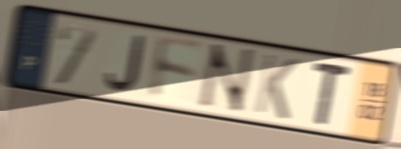7: (55, 18, 101, 89)
F: (148, 32, 207, 103)
J: (103, 33, 147, 95)
K: (252, 51, 301, 123)
N: (193, 42, 258, 117)
T: (311, 58, 354, 129)
